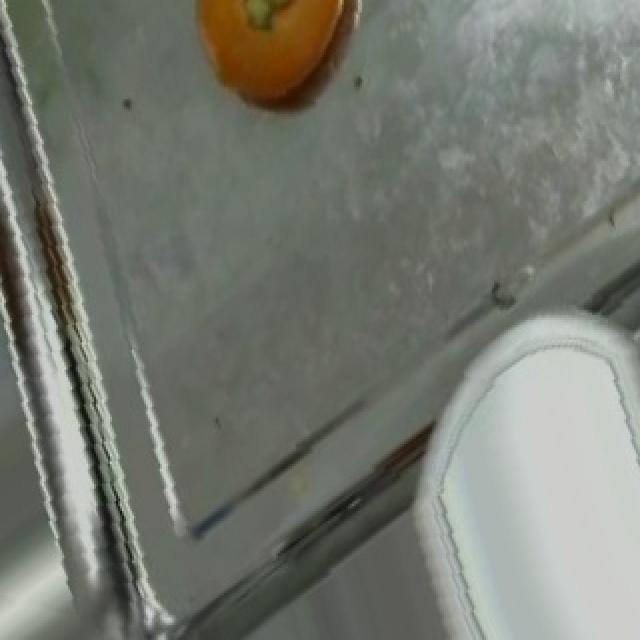Fruit: (168, 0, 376, 131)
